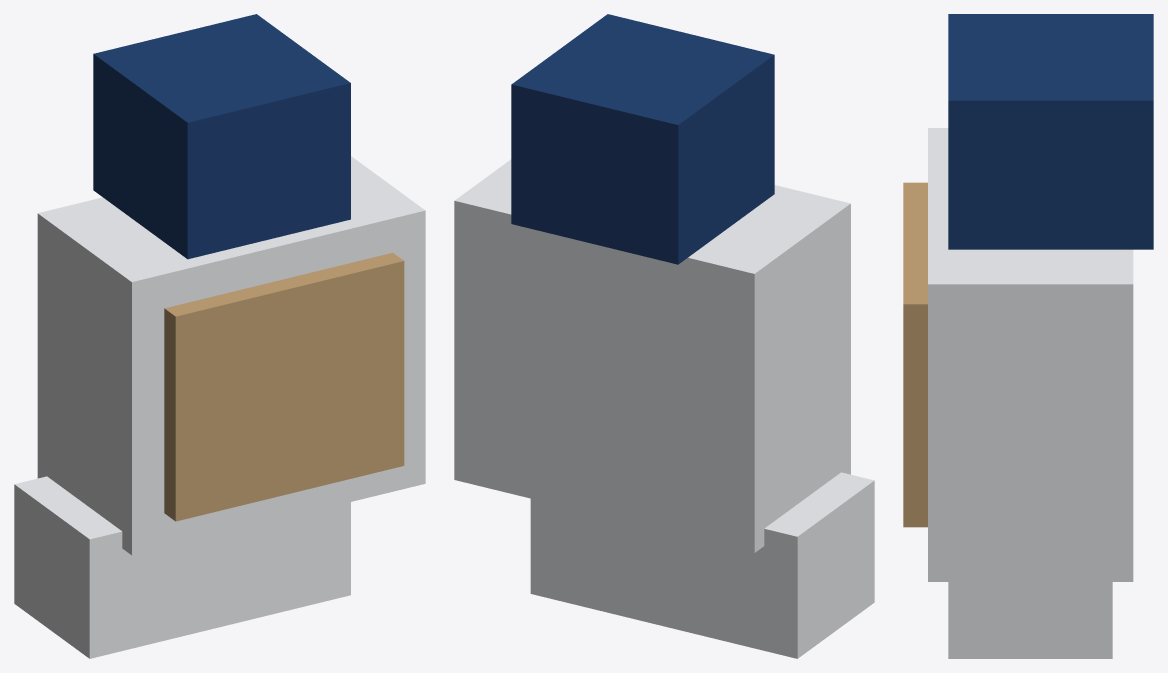
Rendered from glove.glb.
The picture shows the model from 3 angles, left to right: view 1: azimuth 30°, elevation 25°; view 2: azimuth 150°, elevation 25°; view 3: azimuth 270°, elevation 25°; orthographic projection. The views are drawn at different scales.
Visible parts, largest first — view 1: ice_glove_body; view 2: ice_glove_body; view 3: ice_glove_body.
Part boxes in pixels (x1,y1,x2,y2): ice_glove_body: [14, 14, 425, 658]; ice_glove_body: [454, 14, 874, 658]; ice_glove_body: [903, 14, 1153, 658].
Size of the model in its own units: 0.3846 by 0.5769 by 0.2346.
1 material, 1 textured.
